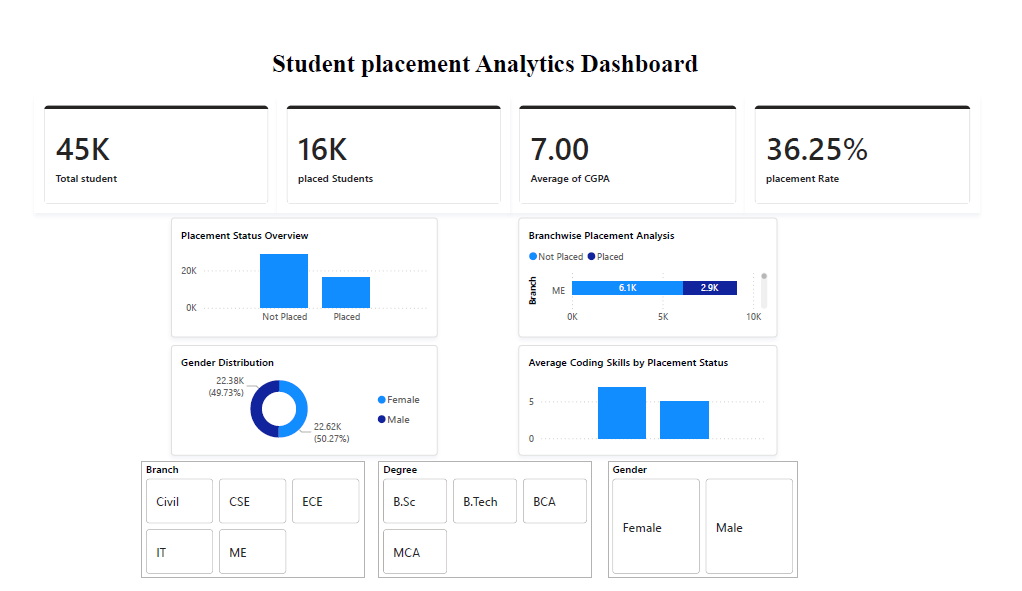

What the dashboard file says about the page in this screenshot:
{"tool":"powerbi","page":{"name":"Page 1","canvas":[1280,720],"ordinal":0},"visuals":[{"type":"cardVisual","fields":{"Data":["CountNonNull(train.Student_ID)"]},"box":[29.9,100.4,311.6,149.7],"z":0},{"type":"cardVisual","fields":{"Data":["Avg(train.CGPA)"]},"box":[640.9,100.4,302.8,149.7],"z":1000},{"type":"cardVisual","fields":{"Data":["train.placed Students"]},"box":[341.6,100.4,299.3,149.7],"z":2000},{"type":"cardVisual","fields":{"Data":["train.placement Rate"]},"box":[943.7,100.4,301.1,149.7],"z":3000},{"type":"clusteredColumnChart","title":"Placement Status Overview","fields":{"Y":["CountNonNull(train.Student_ID)"],"Category":["train.Placement_Status"]},"box":[204.9,255.7,342.6,154.1],"z":4000},{"type":"textbox","box":[323,34.4,572.1,47.5],"z":5000},{"type":"barChart","title":"Branchwise Placement Analysis","fields":{"Category":["train.Branch"],"Y":["CountNonNull(train.Student_ID)"],"Series":["train.Placement_Status"]},"box":[652.5,255.7,332.8,154.1],"z":6000},{"type":"donutChart","title":"Gender Distribution","fields":{"Category":["train.Gender"],"Y":["CountNonNull(train.Student_ID)"]},"box":[204.9,419.7,342.6,142.6],"z":7000},{"type":"clusteredColumnChart","title":"Average Coding Skills by Placement Status","fields":{"Category":["train.Placement_Status"],"Y":["Avg(train.Coding_Skills)"]},"box":[652.5,419.7,332.8,142.6],"z":8000},{"type":"advancedSlicerVisual","fields":{"Values":["train.Branch"]},"box":[167.2,568.9,286.9,150.8],"z":9000},{"type":"advancedSlicerVisual","fields":{"Values":["train.Degree"]},"box":[472.1,568.9,273.8,150.8],"z":10000},{"type":"advancedSlicerVisual","fields":{"Values":["train.Gender"]},"box":[767.2,568.9,244.3,150.8],"z":11000}]}

Visuals, with their boxes in screenshot pixels (x1, y1, x2, y2), scaled from the page's 1280x720 canvas onto the 1022x591 screenshot:
cardVisual - CountNonNull(train.Student_ID): detection(24, 82, 273, 205)
cardVisual - Avg(train.CGPA): detection(512, 82, 753, 205)
cardVisual - train.placed Students: detection(273, 82, 512, 205)
cardVisual - train.placement Rate: detection(753, 82, 994, 205)
"Placement Status Overview" clusteredColumnChart: detection(164, 210, 437, 336)
textbox: detection(258, 28, 715, 67)
"Branchwise Placement Analysis" barChart: detection(521, 210, 787, 336)
"Gender Distribution" donutChart: detection(164, 345, 437, 462)
"Average Coding Skills by Placement Status" clusteredColumnChart: detection(521, 345, 787, 462)
advancedSlicerVisual - train.Branch: detection(133, 467, 363, 590)
advancedSlicerVisual - train.Degree: detection(377, 467, 596, 590)
advancedSlicerVisual - train.Gender: detection(613, 467, 808, 590)
